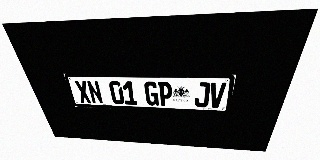0: (108, 81, 125, 104)
1: (121, 81, 137, 105)
G: (144, 81, 159, 106)
J: (194, 82, 211, 107)
N: (86, 81, 104, 104)
P: (158, 82, 172, 106)
V: (208, 82, 226, 108)
X: (74, 80, 92, 103)
